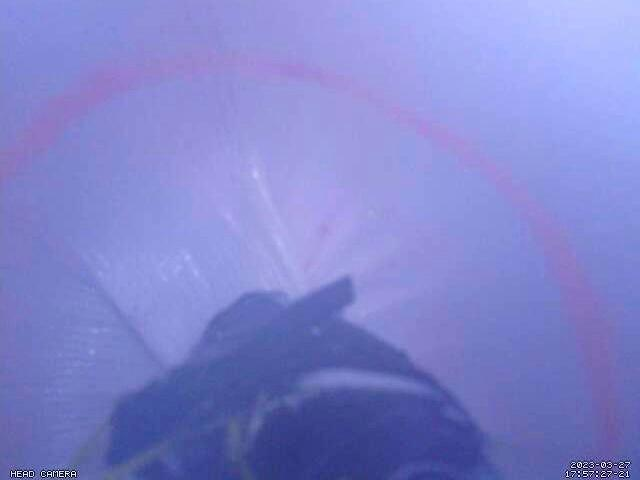head: (1, 45, 625, 480)
